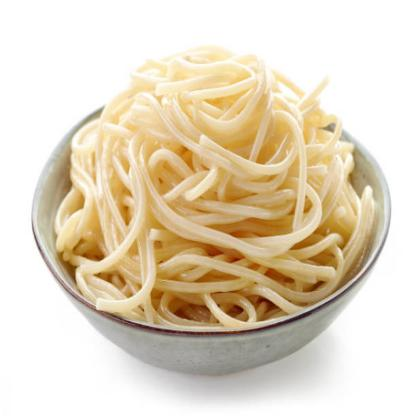Noodles: (53, 44, 376, 326)
